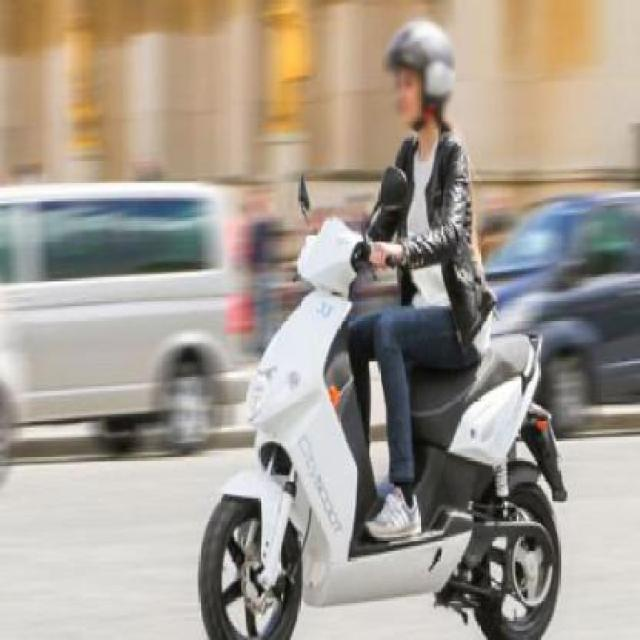With Helmet: (381, 14, 457, 131)
